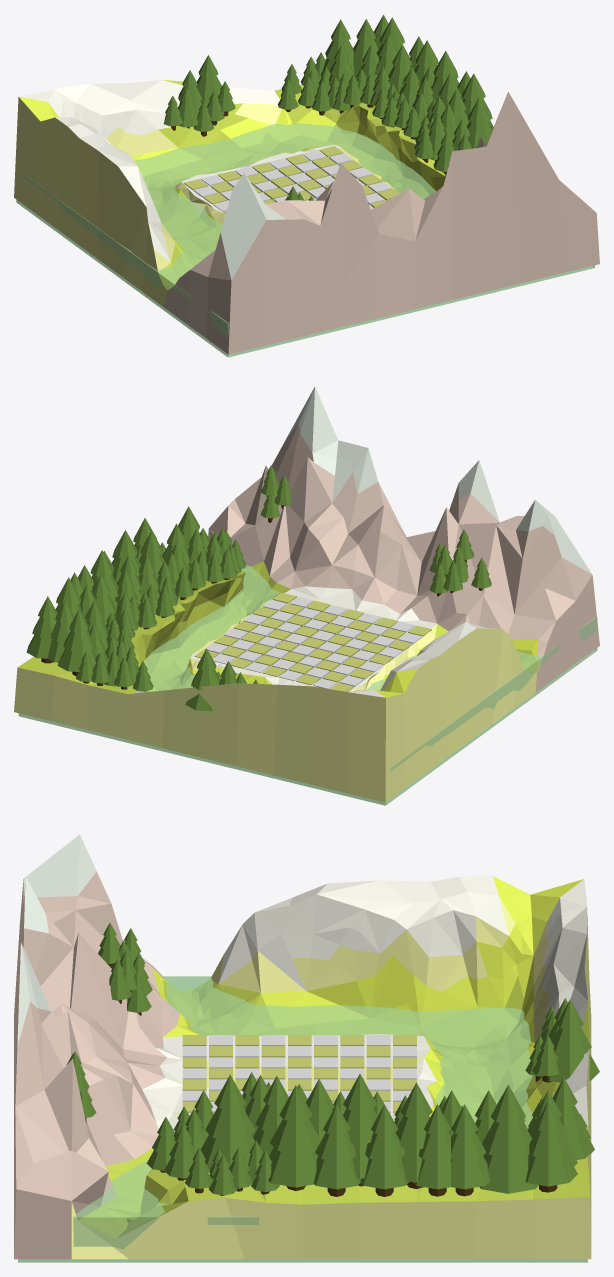
The model's file is landscape.glb.
The picture shows the model from 3 angles, top to bottom: view 1: azimuth 30°, elevation 25°; view 2: azimuth 150°, elevation 25°; view 3: azimuth 270°, elevation 25°; orthographic projection. The views are drawn at different scales.
Visible parts, largest first — view 1: Сетка, Плоскость, Cone.020, Cone.059, Cone.080, Cone.058, Cone.039, Cone.025, Cone.034, Cone.037, Cone.052, Cone.087 (+5 smaller); view 2: Сетка, Плоскость, Cone.059, Cone.076, Cone.080, Cone.058, Cone.039, Cone.037, Cone.034, Cone.022, Cone.060; view 3: Сетка, Плоскость, Cone.060, Cone.025, Cone.020, Cone.076, Cone.079, Cone.078, Cone.075, Cone.077, Cone.037, Cone.080 (+17 smaller).
Boxes of the visible parts, x1,y1,x2,y2 form: Сетка: (14, 80, 599, 354); Плоскость: (16, 123, 594, 357); Cone.020: (467, 98, 492, 148); Cone.059: (320, 19, 354, 77); Cone.080: (196, 55, 228, 114); Cone.058: (353, 19, 378, 79); Cone.039: (431, 51, 459, 101); Cone.025: (462, 73, 492, 126); Cone.034: (388, 45, 411, 96); Cone.037: (414, 40, 438, 85); Cone.052: (328, 45, 353, 87); Cone.087: (178, 88, 197, 128); Сетка: (14, 386, 599, 802); Плоскость: (18, 565, 597, 805); Cone.059: (57, 610, 96, 676); Cone.076: (26, 596, 57, 663); Cone.080: (185, 648, 220, 711); Cone.058: (47, 600, 74, 662); Cone.039: (111, 530, 141, 582); Cone.037: (90, 550, 118, 610); Cone.034: (91, 574, 116, 625); Cone.022: (139, 530, 165, 578); Cone.060: (55, 577, 82, 616); Сетка: (14, 834, 591, 1259); Плоскость: (18, 976, 587, 1262); Cone.060: (479, 1085, 538, 1193); Cone.025: (268, 1085, 320, 1190); Cone.020: (200, 1074, 255, 1169); Cone.076: (525, 1101, 577, 1192); Cone.079: (313, 1104, 360, 1196); Cone.078: (360, 1104, 409, 1196); Cone.075: (451, 1104, 489, 1196); Cone.077: (413, 1104, 450, 1196); Cone.037: (395, 1082, 432, 1188); Cone.080: (548, 999, 599, 1082).
Bounding box in the file's own units: 24.54 × 12.24 × 24.54.
